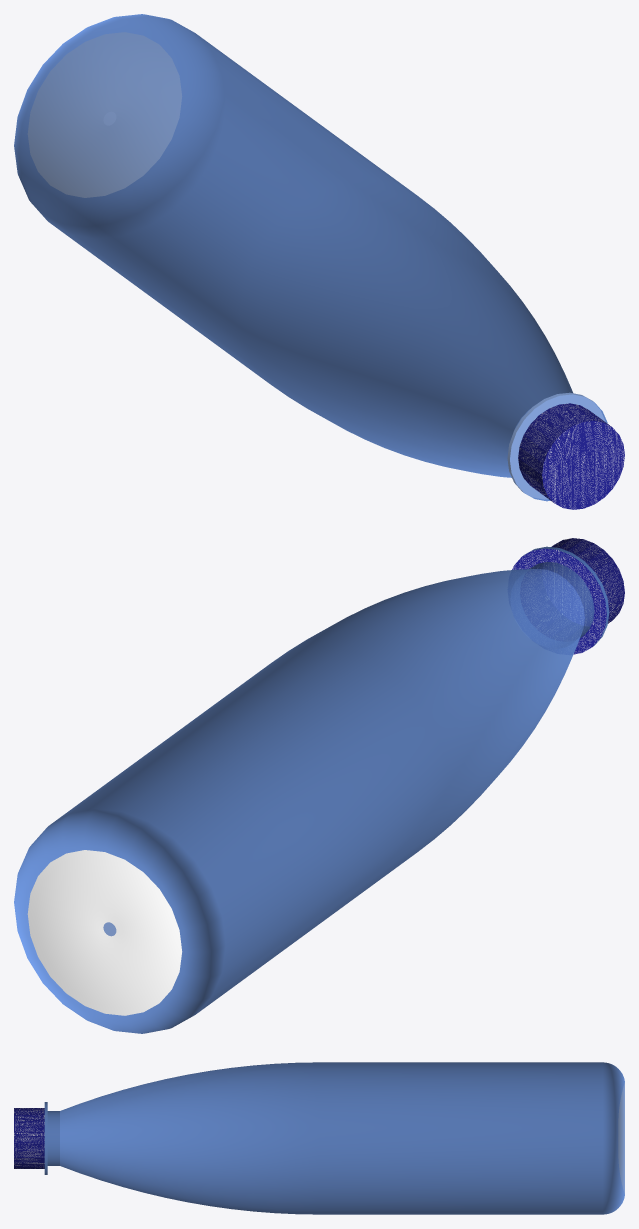
The model's file is model_align.obj.
The picture shows the model from 3 angles, top to bottom: view 1: azimuth 30°, elevation 25°; view 2: azimuth 150°, elevation 25°; view 3: azimuth 270°, elevation 25°; orthographic projection. The views are drawn at different scales.
Visible parts, largest first — view 1: mesh1_mesh1-geometry; view 2: mesh1_mesh1-geometry; view 3: mesh1_mesh1-geometry.
Part boxes in pixels (x1,y1,x2,y2): mesh1_mesh1-geometry: (14,14,624,509); mesh1_mesh1-geometry: (14,538,624,1033); mesh1_mesh1-geometry: (14,1062,624,1214).
Size of the model in its own units: 0.0692 by 0.0692 by 0.2767.
